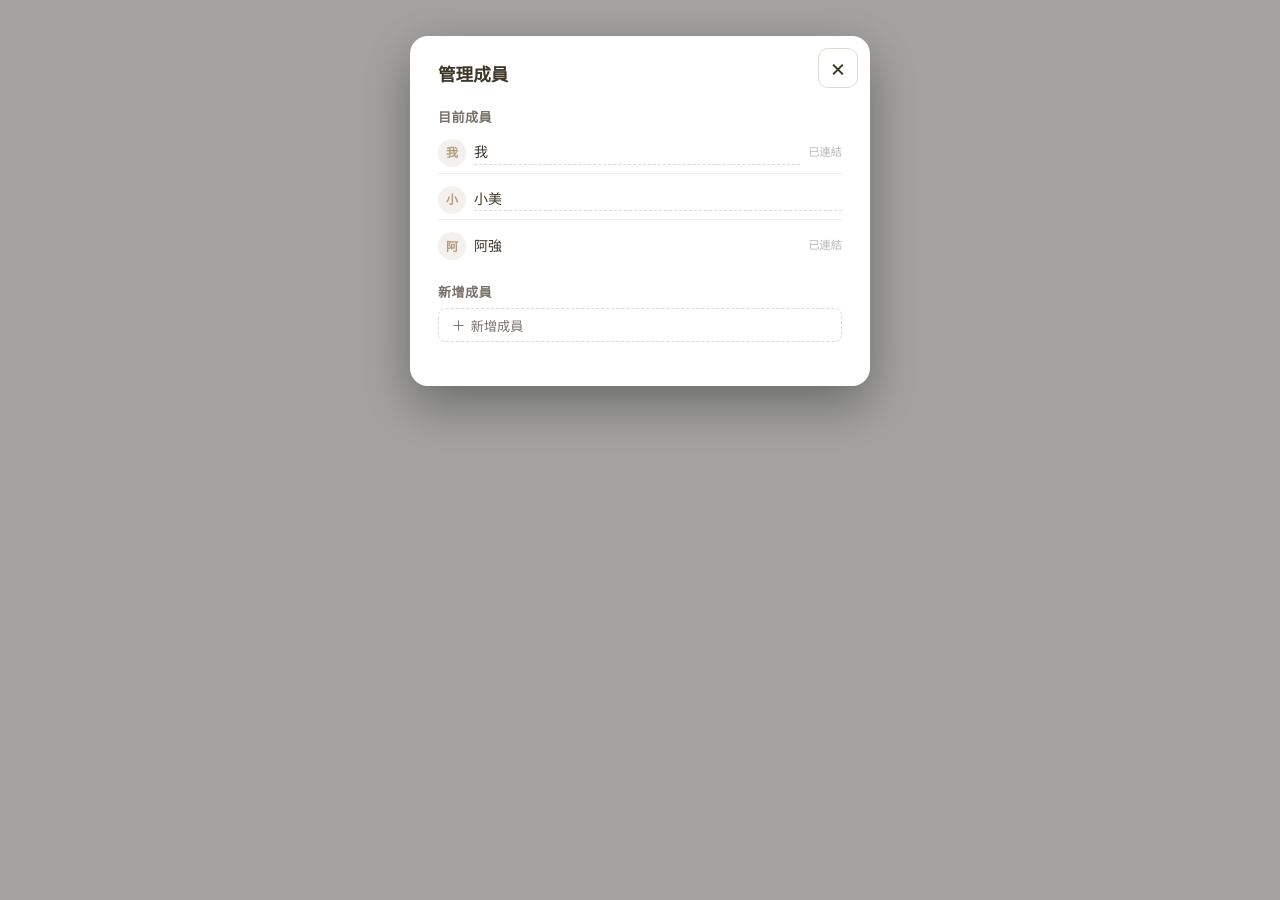
Test case: 群主 › 點未連結成員會進入編輯框，而且看不到群主專屬的說明
The image size is (1280, 900).
Click the text with class "split-modal__member-name" showing "小美".
click(658, 200)  # box [474,188,842,211]
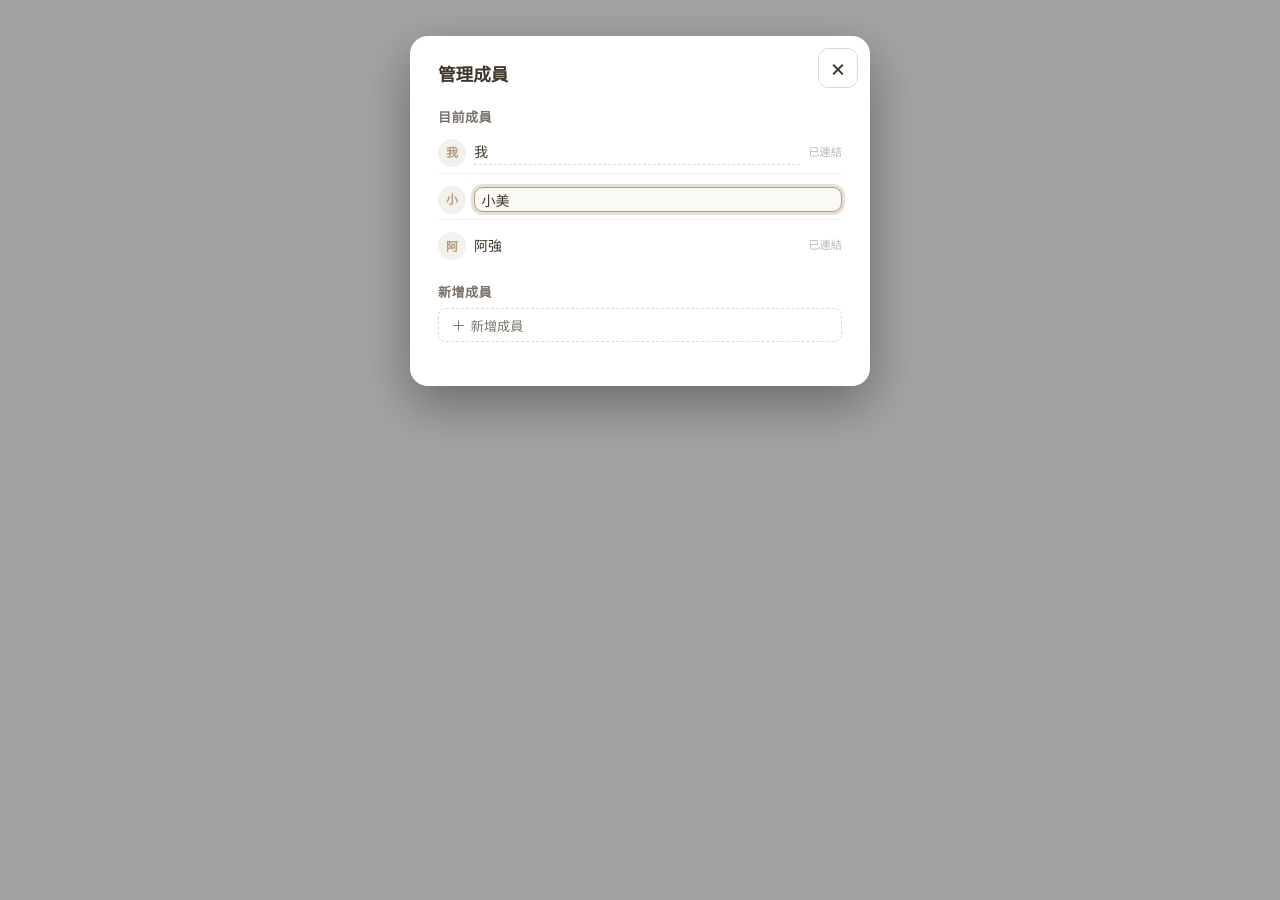
Check: the field with class "split-modal__input--inline-edit" is shown, box [474,187,842,212]
